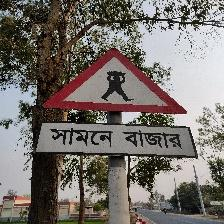Market-in-front: (34, 48, 197, 157)
